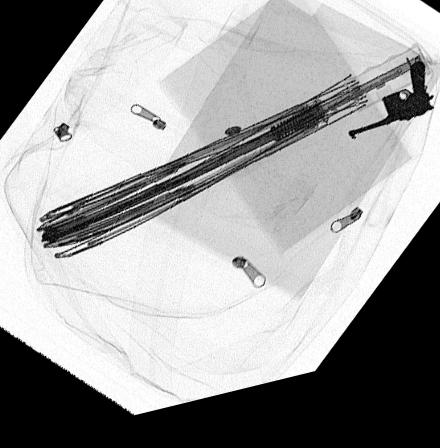Gun: (347, 80, 436, 159)
